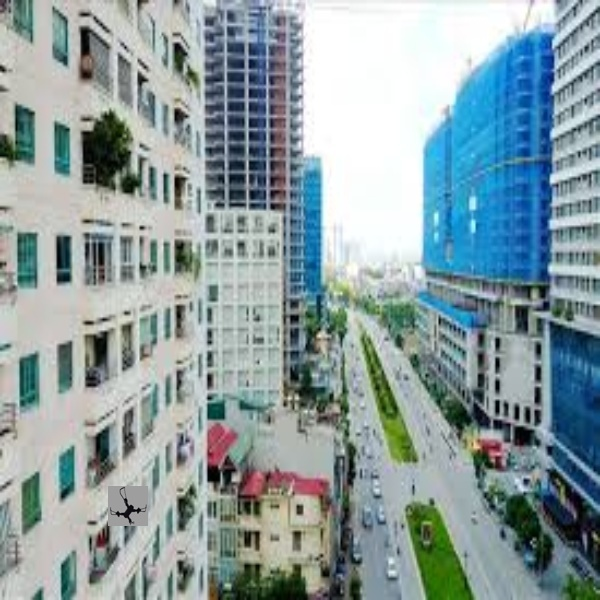drone: (110, 485, 147, 524)
